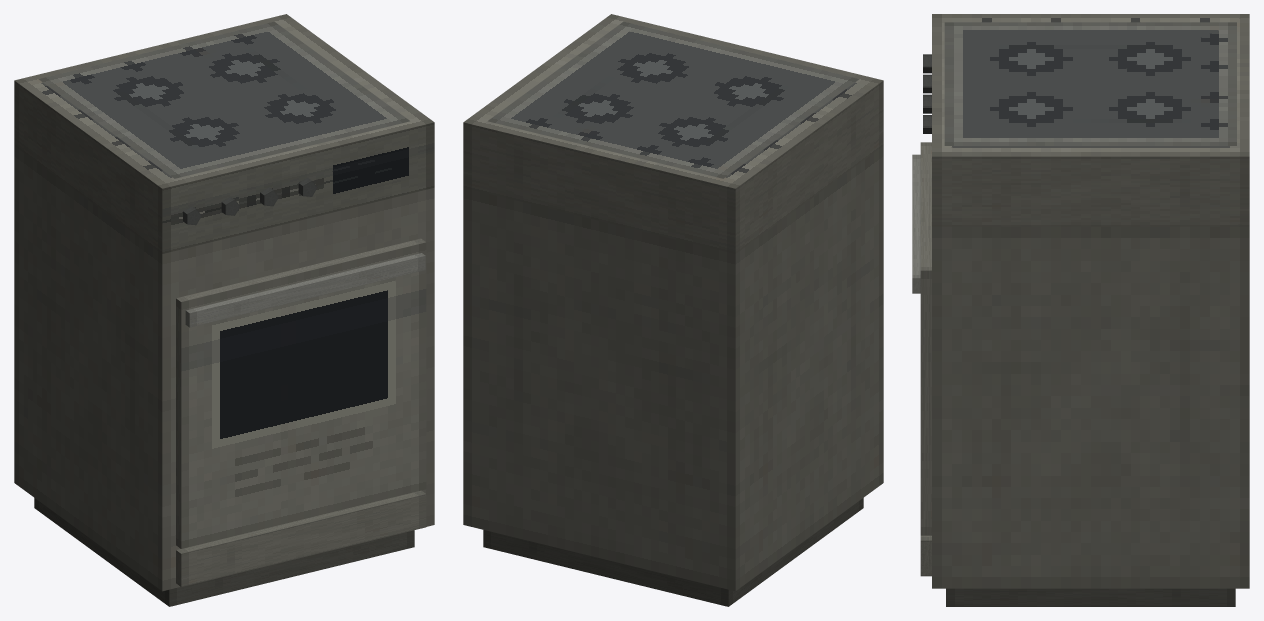
File: stove.glb
3 views of the same model, side by side, from view 1: azimuth 30°, elevation 25°; view 2: azimuth 150°, elevation 25°; view 3: azimuth 270°, elevation 25° (orthographic). The views are drawn at different scales.
Visible parts, largest first — view 1: core_stove; view 2: core_stove; view 3: core_stove.
Boxes of the visible parts, <box> form: core_stove: <box>14,14,434,606</box>; core_stove: <box>463,14,883,606</box>; core_stove: <box>912,14,1249,606</box>.
Size of the model in its own units: 0.6 by 0.9 by 0.6.
1 material, 1 textured.
